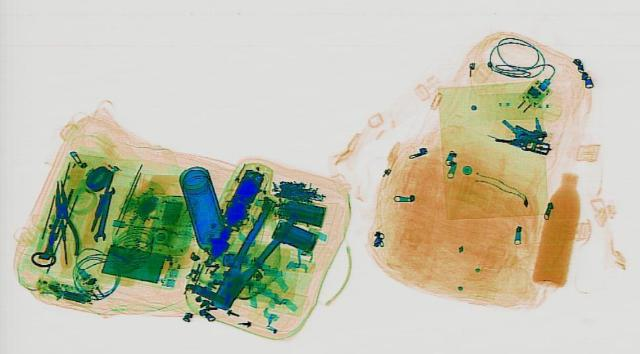Pliers: (200, 204, 302, 311), (46, 178, 80, 253)
Wrench: (92, 184, 114, 239)
